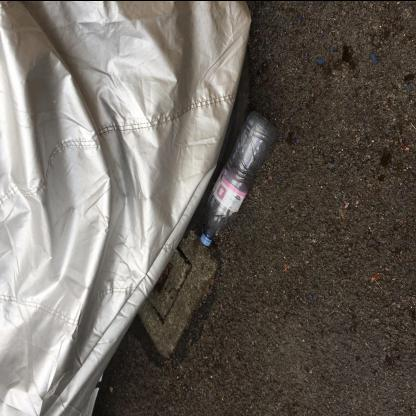plastik: (201, 108, 277, 246)
